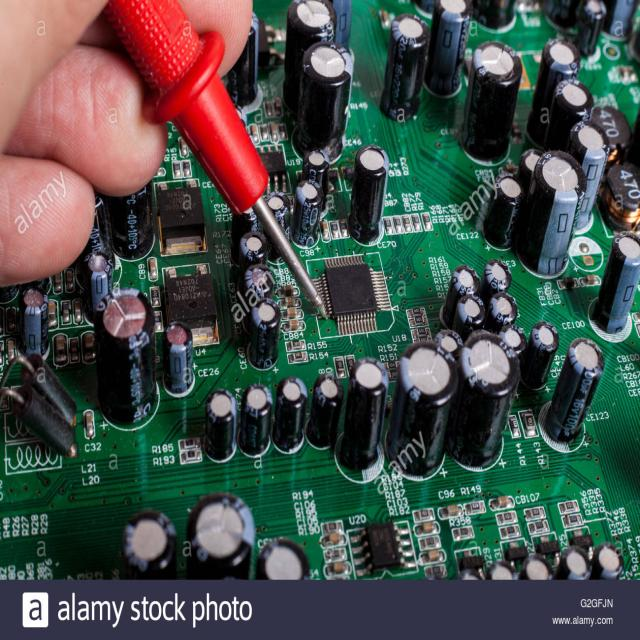capacitor: (451, 329, 520, 466), (391, 341, 458, 476), (515, 150, 586, 274), (96, 288, 156, 425), (462, 42, 522, 160), (297, 40, 353, 159), (550, 338, 604, 445), (282, 0, 335, 108), (188, 491, 255, 575), (382, 14, 430, 123), (342, 358, 388, 471), (528, 38, 579, 138), (424, 0, 472, 94), (596, 231, 640, 333), (572, 119, 610, 229), (348, 144, 389, 243), (544, 80, 592, 152), (124, 509, 175, 576), (484, 172, 523, 250), (307, 374, 343, 451), (273, 377, 308, 454), (523, 321, 559, 389), (239, 384, 272, 458), (204, 389, 237, 462), (20, 285, 50, 360), (442, 264, 479, 324), (240, 263, 272, 332), (248, 299, 280, 368), (258, 538, 309, 581), (164, 321, 192, 394), (294, 180, 322, 246), (265, 192, 292, 259), (304, 148, 330, 212), (578, 0, 606, 56), (89, 250, 112, 318), (454, 294, 484, 334), (562, 546, 592, 579), (595, 542, 624, 576), (484, 258, 512, 292), (490, 292, 518, 324)
